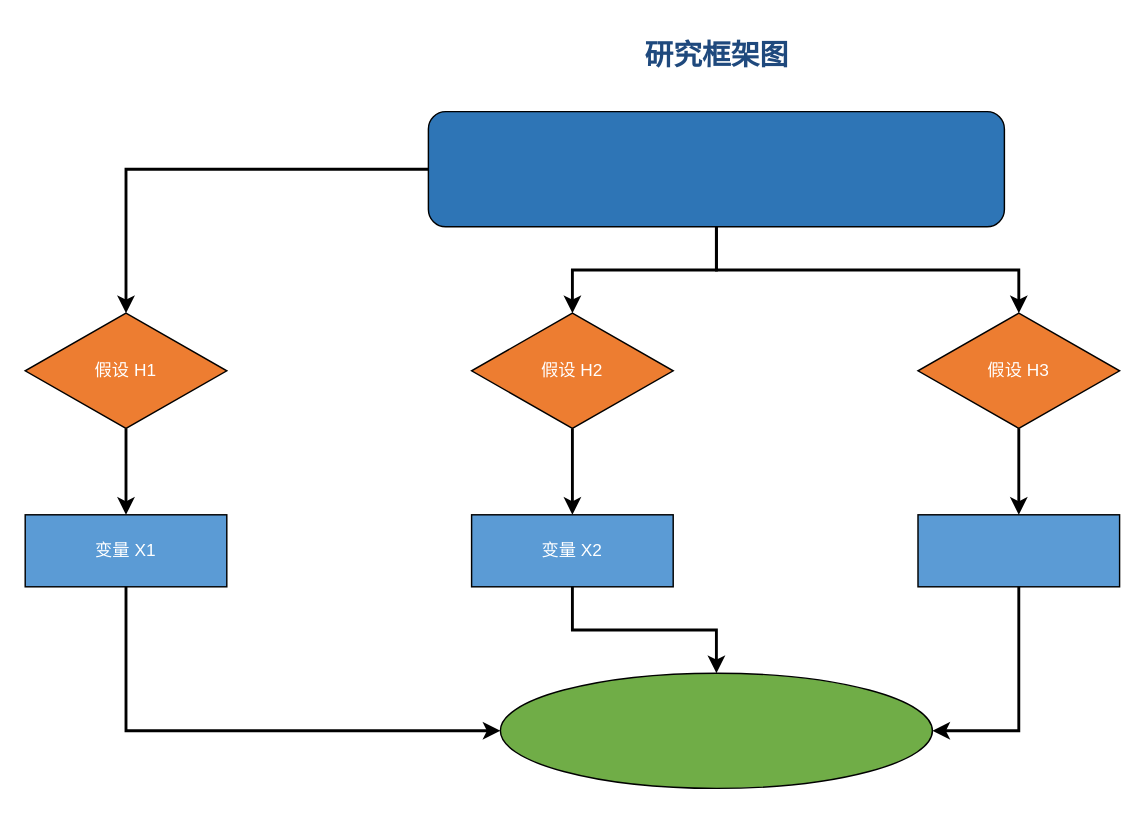
This 1145x814 diagram has some shape labels left out. Each missing label, with the centre of its shape:
变量 X3: [1018,550]
因变量 Y (研究结论): [715,730]
理论基础 (理论框架): [715,168]
